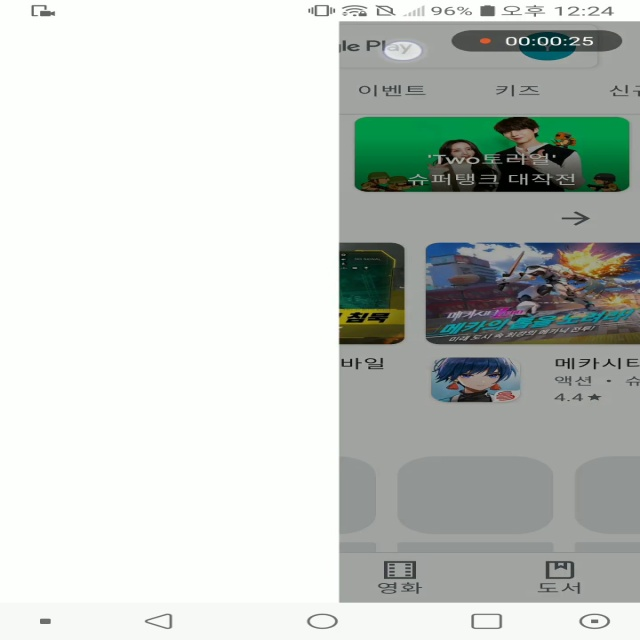Cursor: (381, 40, 425, 63)
